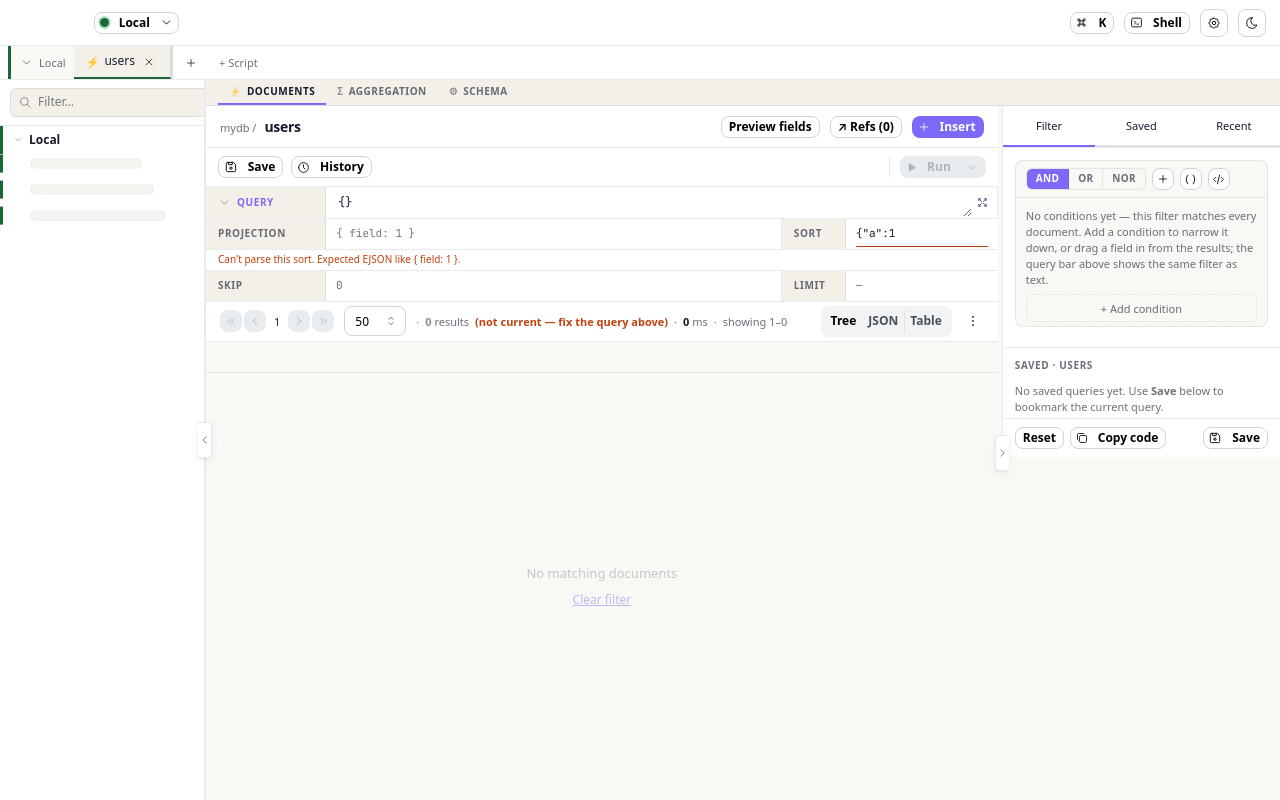
Scenario: W15 §1.1 — Copy code refuses a query that will not run › an unparseable sort is refused, and nothing reaches the clipboard
Step 1. Click the button "Copy code" → point(1118, 438), box [1070,427,1166,449]
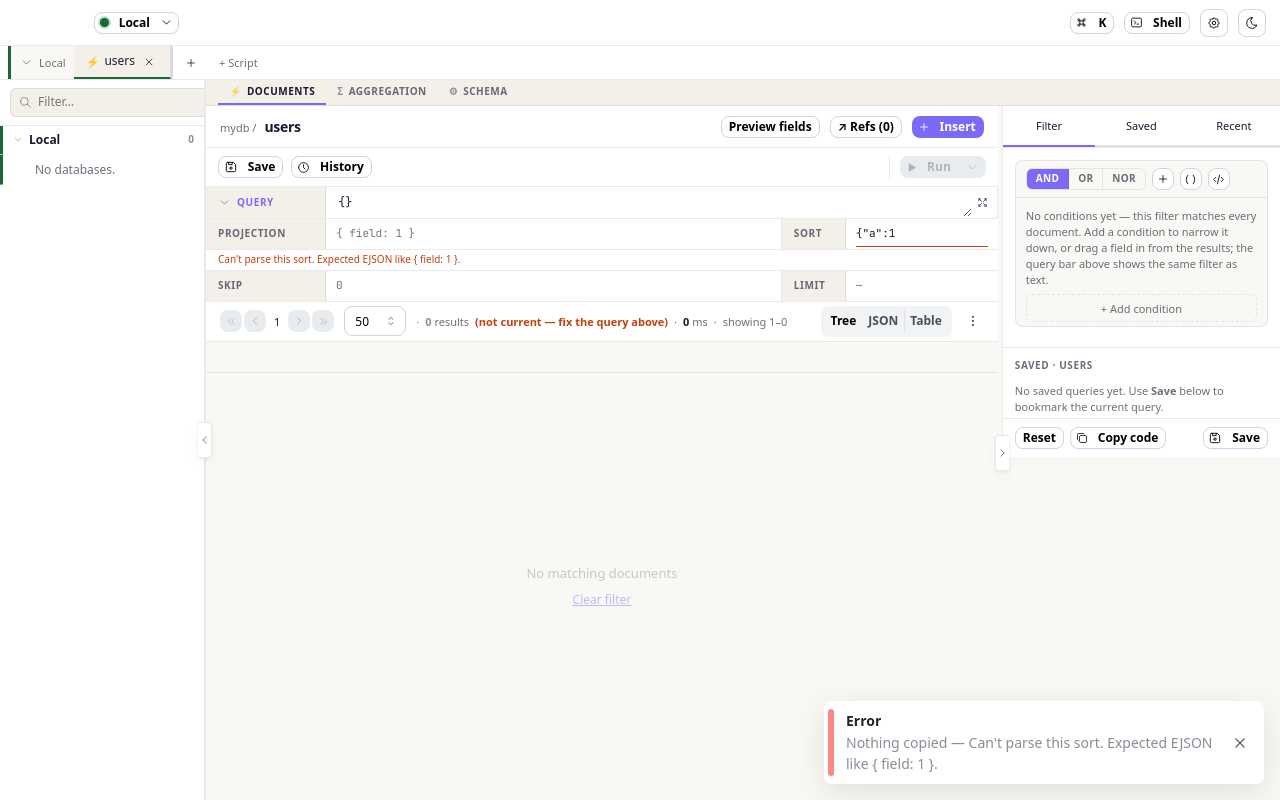
Now the text "Nothing copied" is shown, box [846,733,1212,773]
